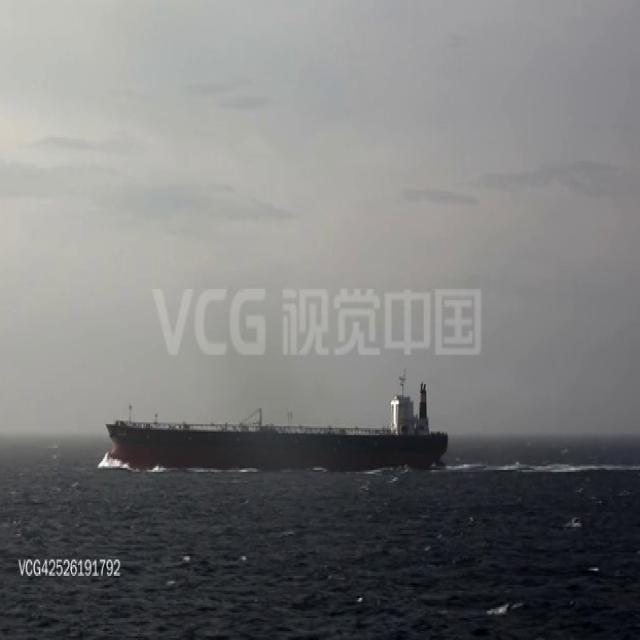cargoship: (105, 373, 448, 473)
